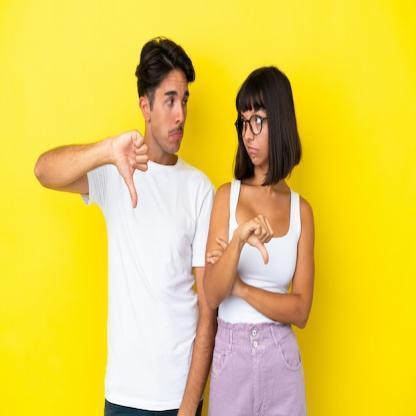thumb_down: (108, 124, 150, 212), (236, 210, 274, 267)
